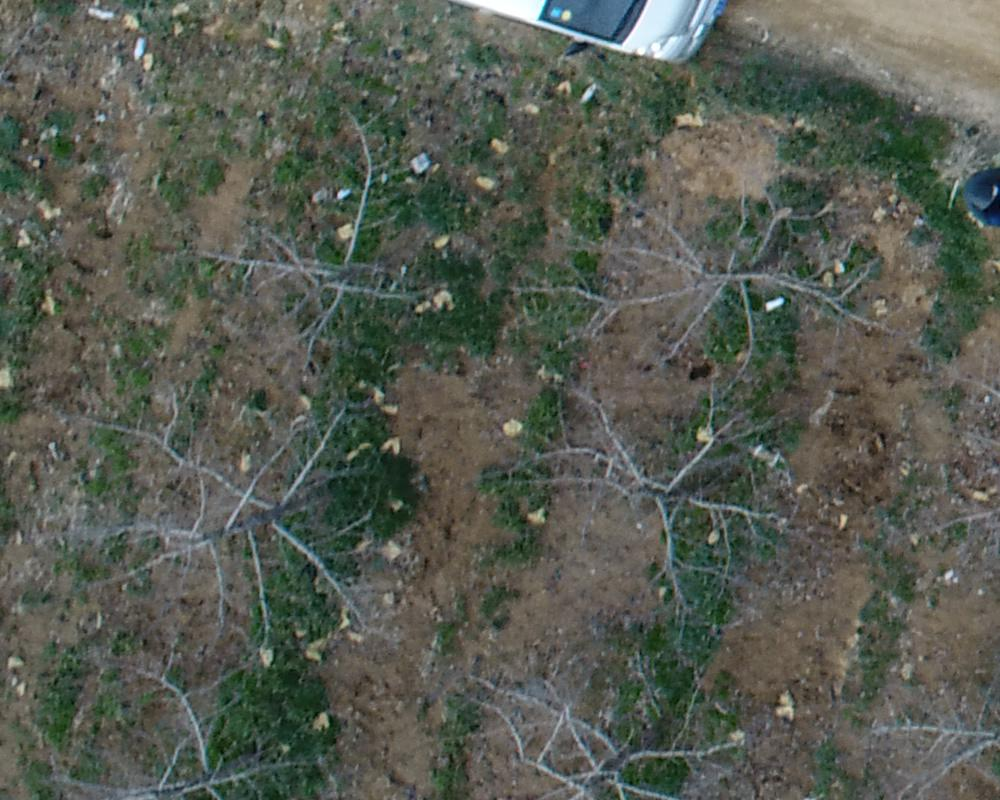apple: (57, 389, 408, 669), (513, 171, 897, 390), (502, 384, 802, 635), (191, 96, 448, 376), (41, 655, 339, 790), (472, 660, 741, 790)
